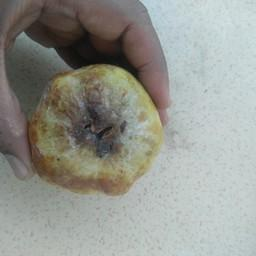Bad_guava: (28, 61, 166, 200)
